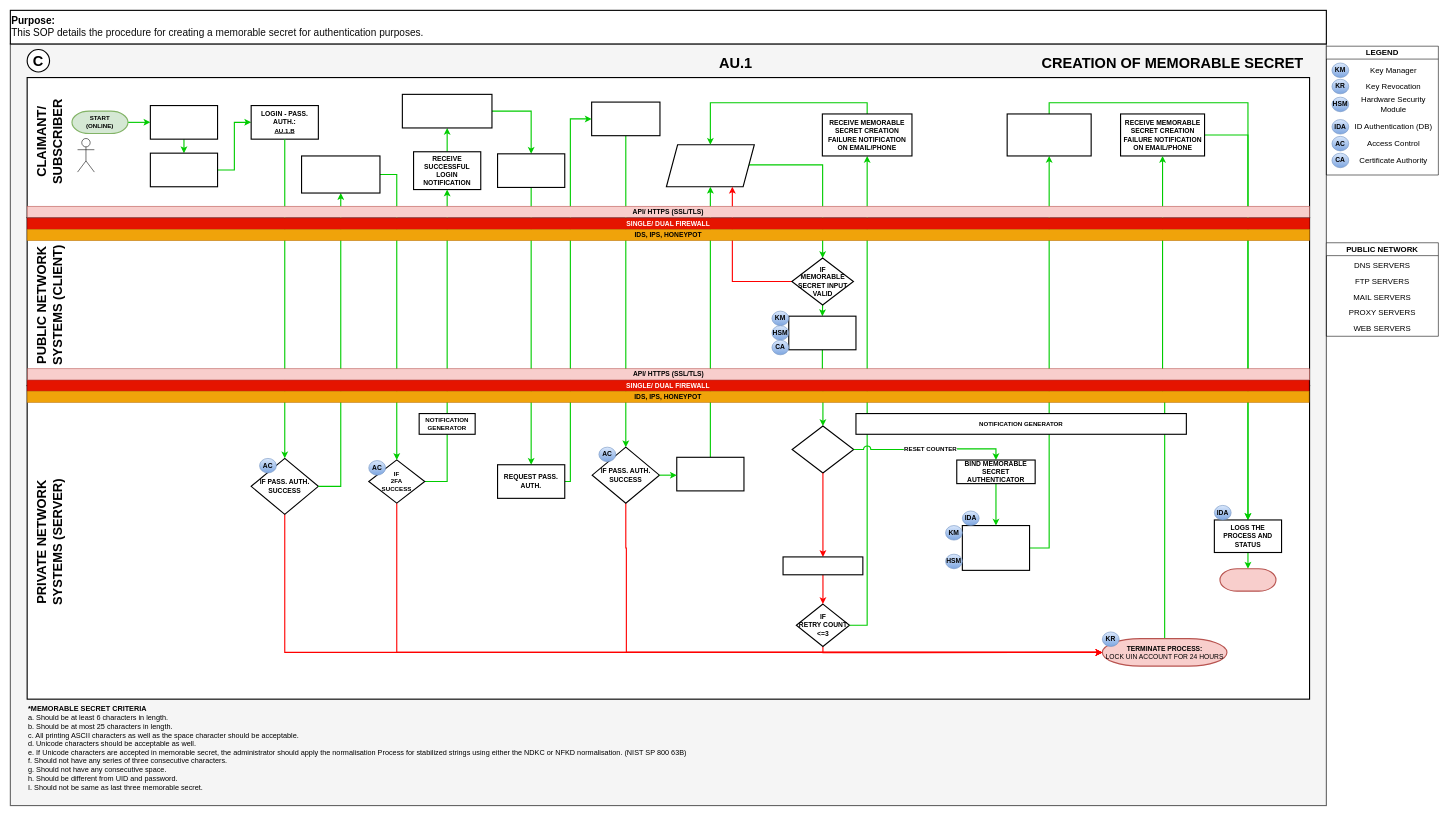
This 1448x815 diagram has some shape labels left out. The shapes that lost their labels are listed below. From the top down, each one's centre as x and y in pixels, then its label:
[184,122]: VISIT DID PORTAL
[447,111]: NAVIGATE SETTINGS -> SECURITY-> 'MEMORABLE SECRET'
[625,118]: AUTHENTICATE USING PASSWORD: AU.1.B
[1048,134]: RECEIVE MEMORABLE SECRET CREATION SUCCESS NOTIFICATION ON EMAIL/PHONE
[85,155]: USER
[184,169]: CLICK USER LOGIN
[340,174]: 2FA USING (ONE) OTP: AU.2.C PIN: AU.1.F
[531,170]: CLICK CONFIGURE MEMORABLE SECRET
[710,165]: ENTERS NEW MEMORABLE SECRET WITH SPECIFIED CRITERIA*
[822,332]: MASK & ENCRYPT MEMORABLE SECRET
[822,449]: IF MEM. SEC. CRITERIA* MATCH
[710,473]: PROMPT TO CREATE NEW MEMORABLE SECRET
[822,565]: EXCEPTION AND ERROR HANDLING (COUNTER)
[996,548]: STORE MEMORABLE SECRET IN UIN ACCOUNT WITH ENCRYPTION AND HASHING
[1247,579]: END
